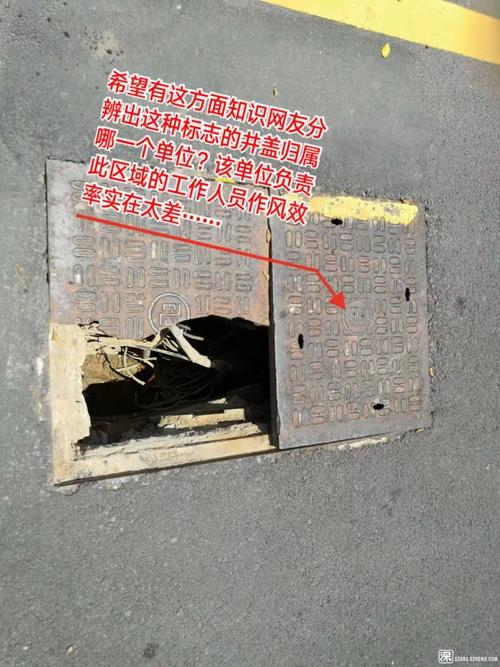broke: (20, 150, 459, 485)
